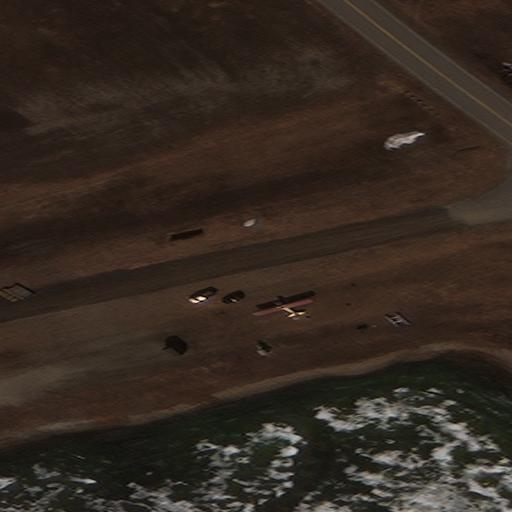Small Civil Transport: (251, 296, 306, 316)
